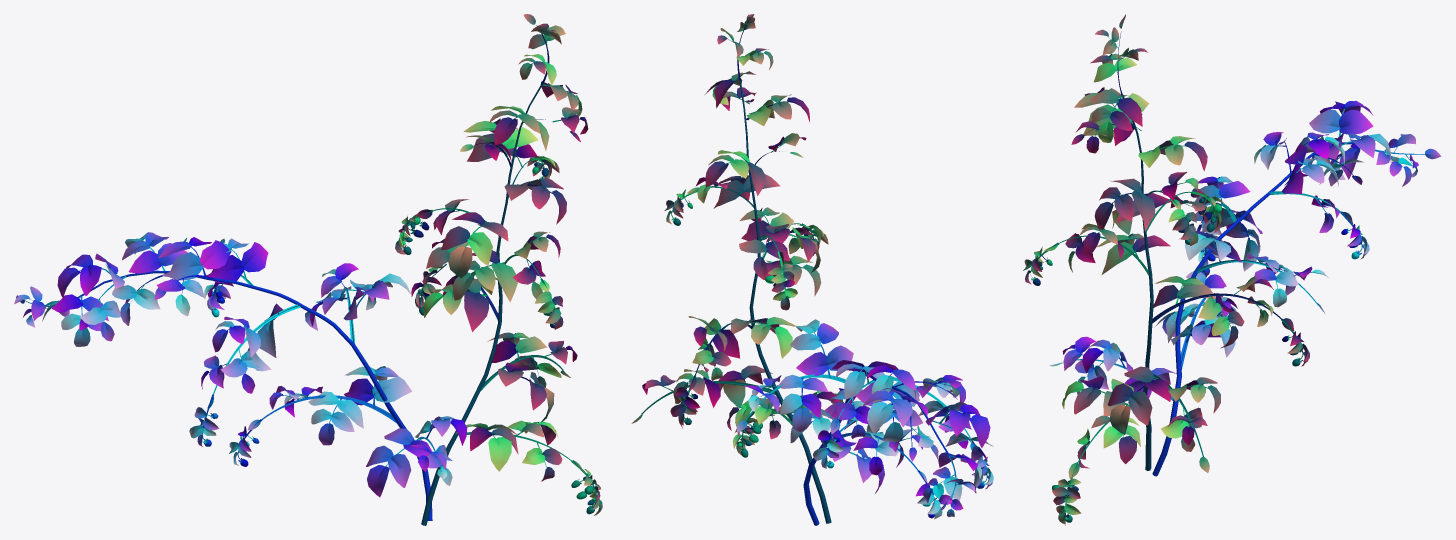
File: Raspberry_wf0oefeja_High_wf0oefeja_VarF_LOD0.fbx
The picture shows the model from 3 angles, left to right: view 1: azimuth 30°, elevation 25°; view 2: azimuth 150°, elevation 25°; view 3: azimuth 270°, elevation 25°; orthographic projection. The views are drawn at different scales.
Visible parts, largest first — view 1: _reka_VarF_LOD0; view 2: _reka_VarF_LOD0; view 3: _reka_VarF_LOD0.
Part boxes in pixels (left/top/right/bottom): _reka_VarF_LOD0: left=14, top=14, right=602, bottom=525; _reka_VarF_LOD0: left=631, top=14, right=993, bottom=525; _reka_VarF_LOD0: left=1023, top=14, right=1441, bottom=525.
Size of the model in its own units: 100 by 104 by 79.22.
